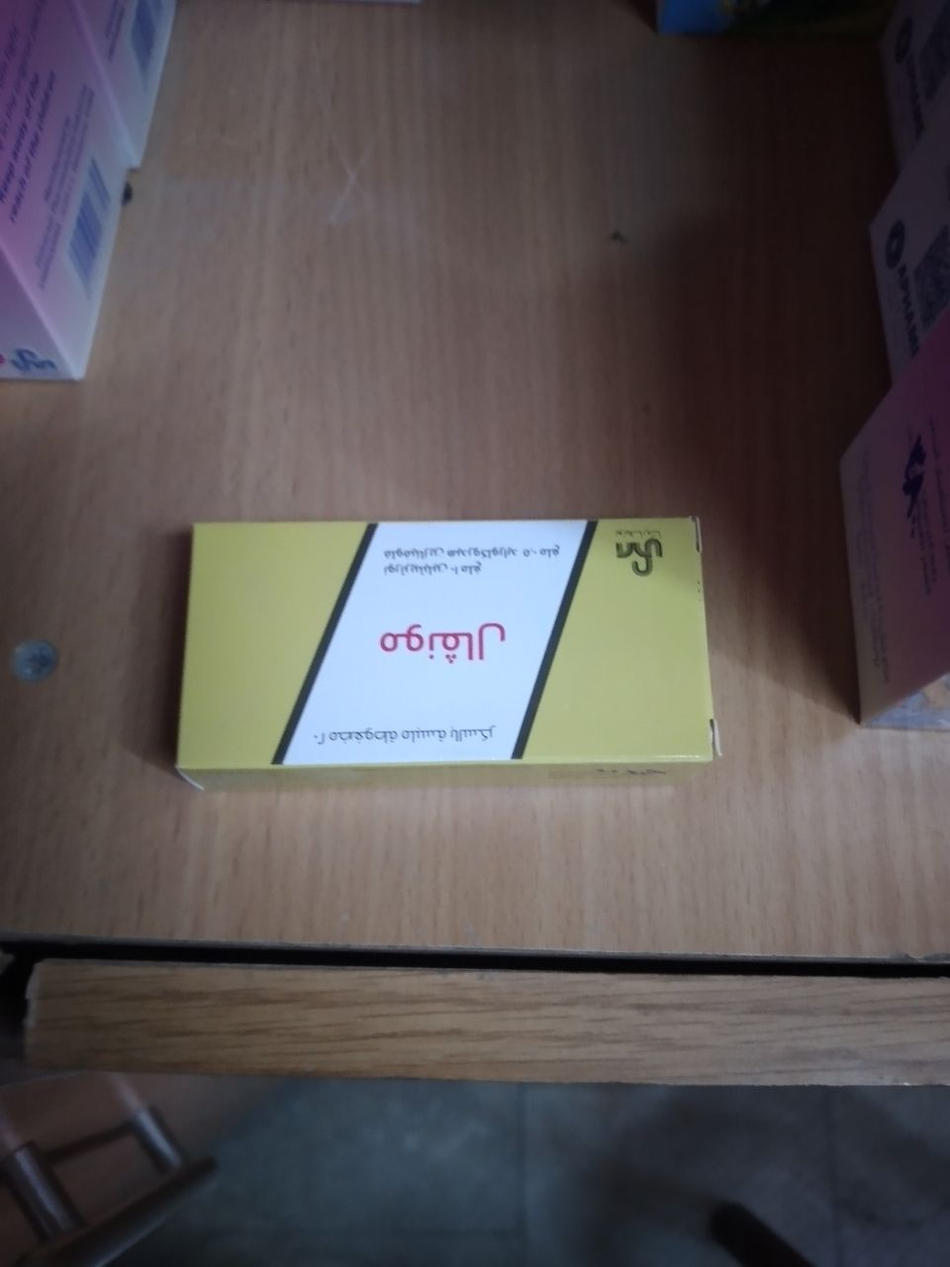Medicine: (158, 495, 739, 808)
